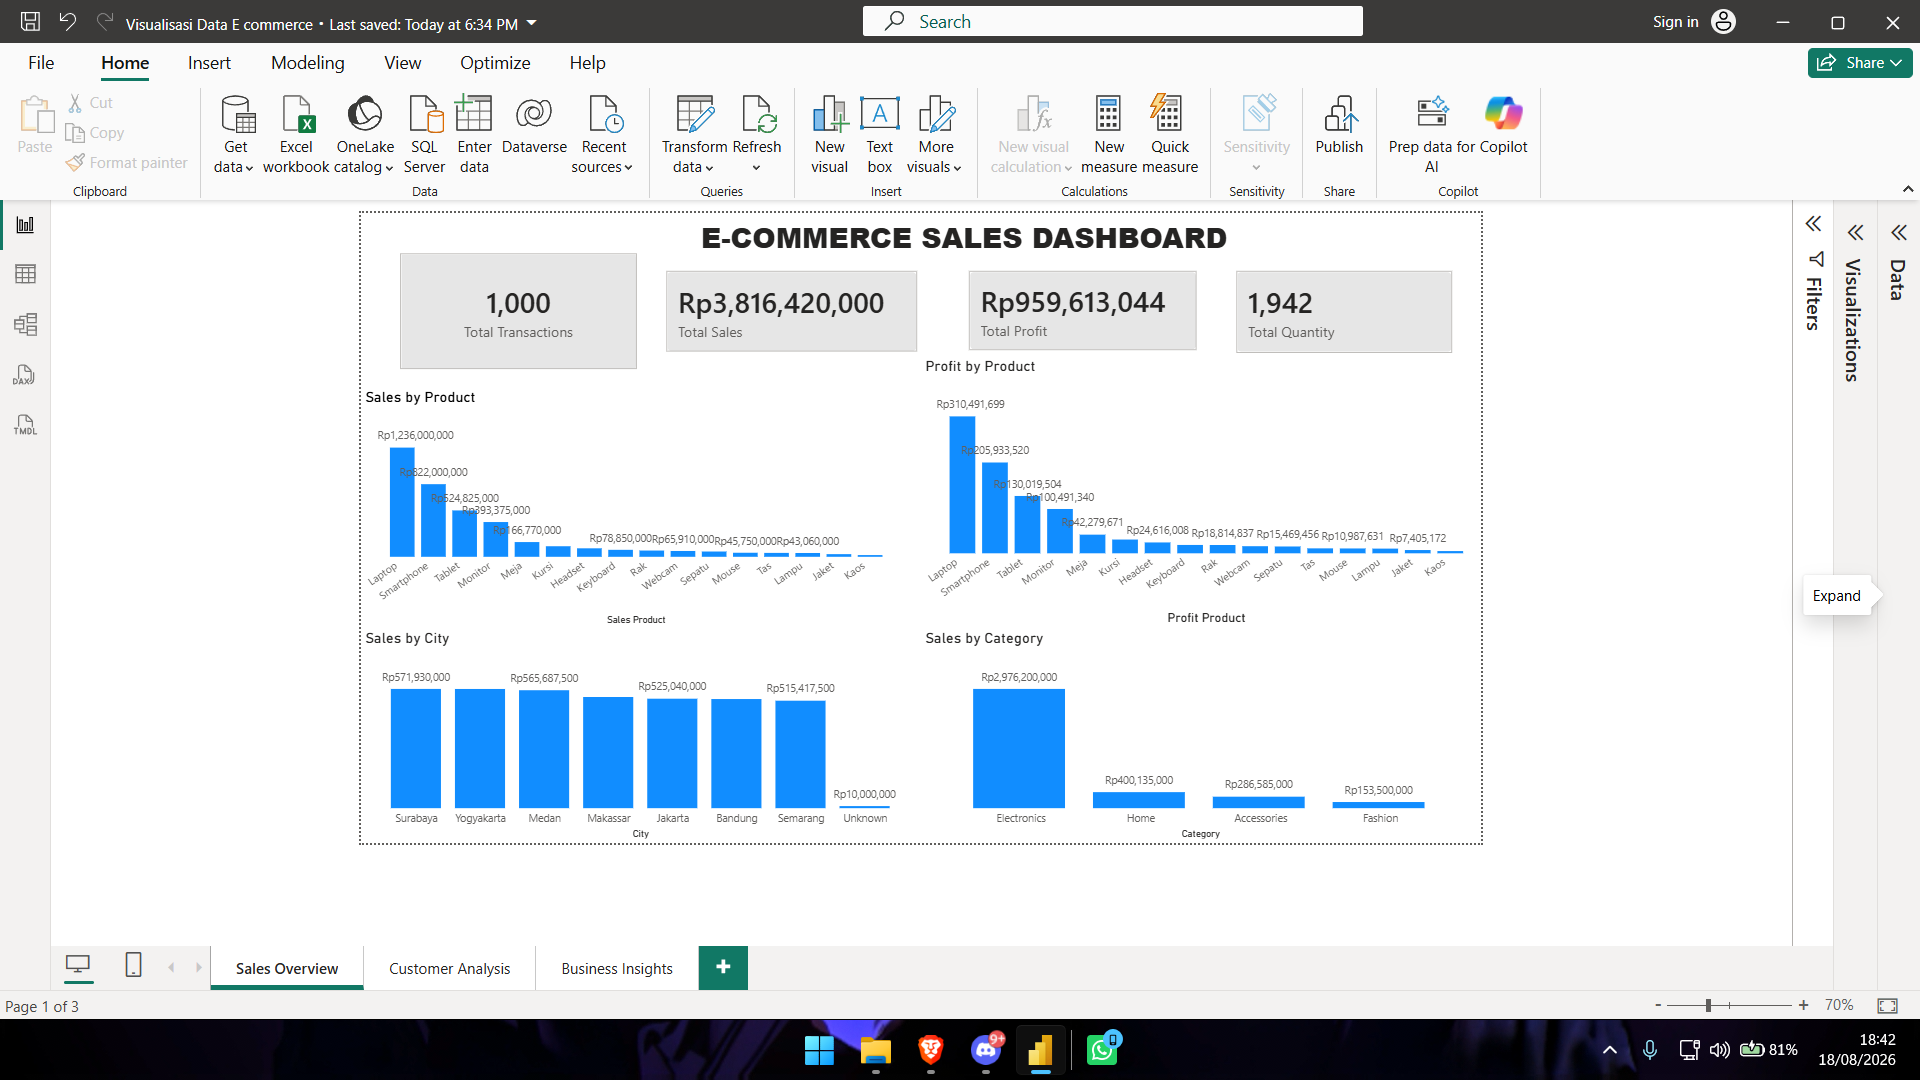

What the dashboard file says about the page in this screenshot:
{"tool":"powerbi","page":{"name":"Sales Overview","canvas":[1280,720],"ordinal":0},"visuals":[{"type":"cardVisual","fields":{"Data":["CountNonNull(public data_mentah.Order_ID)"]},"box":[40,41.4,280,142.9],"z":0},{"type":"cardVisual","fields":{"Data":["Sum(public data_mentah.Sales)"]},"box":[344.3,61.4,296.4,102.9],"z":1000},{"type":"cardVisual","fields":{"Data":["Sum(public data_mentah.Profit)"]},"box":[690,61.4,270.3,100.9],"z":2000},{"type":"cardVisual","fields":{"Data":["Sum(public data_mentah.Quantity)"]},"box":[995.7,61.4,256.9,103.6],"z":3000},{"type":"clusteredColumnChart","title":"Sales by Product","fields":{"Category":["public data_mentah.Product"],"Y":["Sum(public data_mentah.Sales)"]},"box":[0,200,615.7,275.7],"z":4000},{"type":"clusteredColumnChart","title":"Profit by Product","fields":{"Category":["public data_mentah.Product"],"Y":["Sum(public data_mentah.Profit)"]},"box":[640,164.3,640,311.4],"z":5000},{"type":"clusteredColumnChart","title":"Sales by City","fields":{"Category":["public data_mentah.City"],"Y":["Sum(public data_mentah.Sales)"]},"box":[0,475.7,640,244.3],"z":6000},{"type":"clusteredColumnChart","title":"Sales by Category","fields":{"Category":["public data_mentah.Category"],"Y":["Sum(public data_mentah.Sales)"]},"box":[640,475.7,640,244.3],"z":7000},{"type":"textbox","box":[368.6,0,641.4,61.4],"z":8000}]}

Visuals, with their boxes on the page's 1280x720 design canvas (x1, y1, x2, y2). These are canvas units, not pixel positions in the 1920x1080 screenshot, which may show the page scaled, cropped or inside an application window:
cardVisual - CountNonNull(public data_mentah.Order_ID): 40 41 320 184
cardVisual - Sum(public data_mentah.Sales): 344 61 641 164
cardVisual - Sum(public data_mentah.Profit): 690 61 960 162
cardVisual - Sum(public data_mentah.Quantity): 996 61 1253 165
"Sales by Product" clusteredColumnChart: 0 200 616 476
"Profit by Product" clusteredColumnChart: 640 164 1280 476
"Sales by City" clusteredColumnChart: 0 476 640 720
"Sales by Category" clusteredColumnChart: 640 476 1280 720
textbox: 369 0 1010 61
